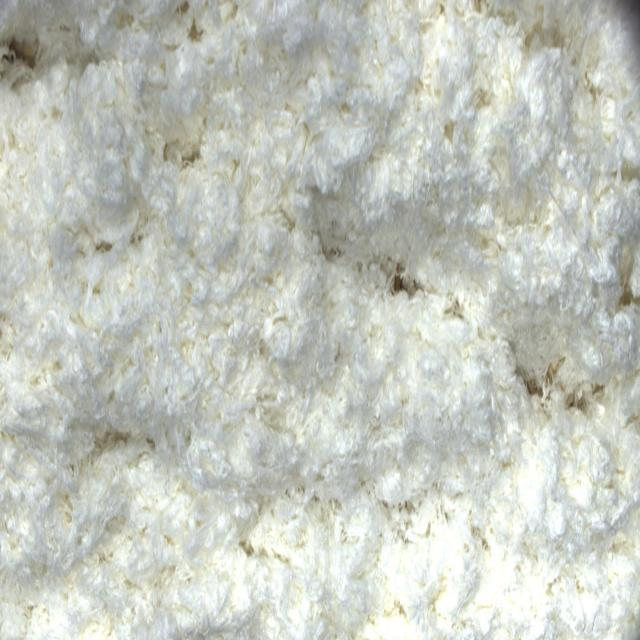dust: (6, 32, 44, 102)
